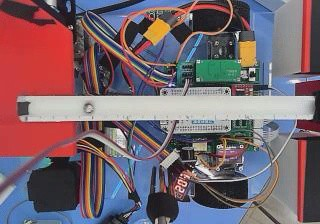ironball: (82, 102, 93, 113)
